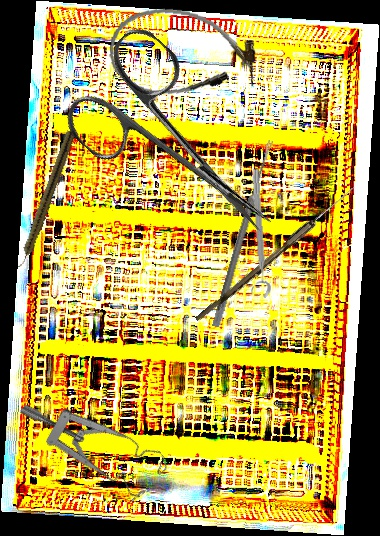Cannula: (105, 1, 261, 107)
Fixation Ring: (241, 168, 272, 299)
Handpiece: (14, 129, 77, 270)
Iris Scissors: (50, 20, 312, 273)
Speculum: (18, 358, 175, 522)
Surgical Spoon: (194, 182, 358, 326), (211, 139, 275, 328)
